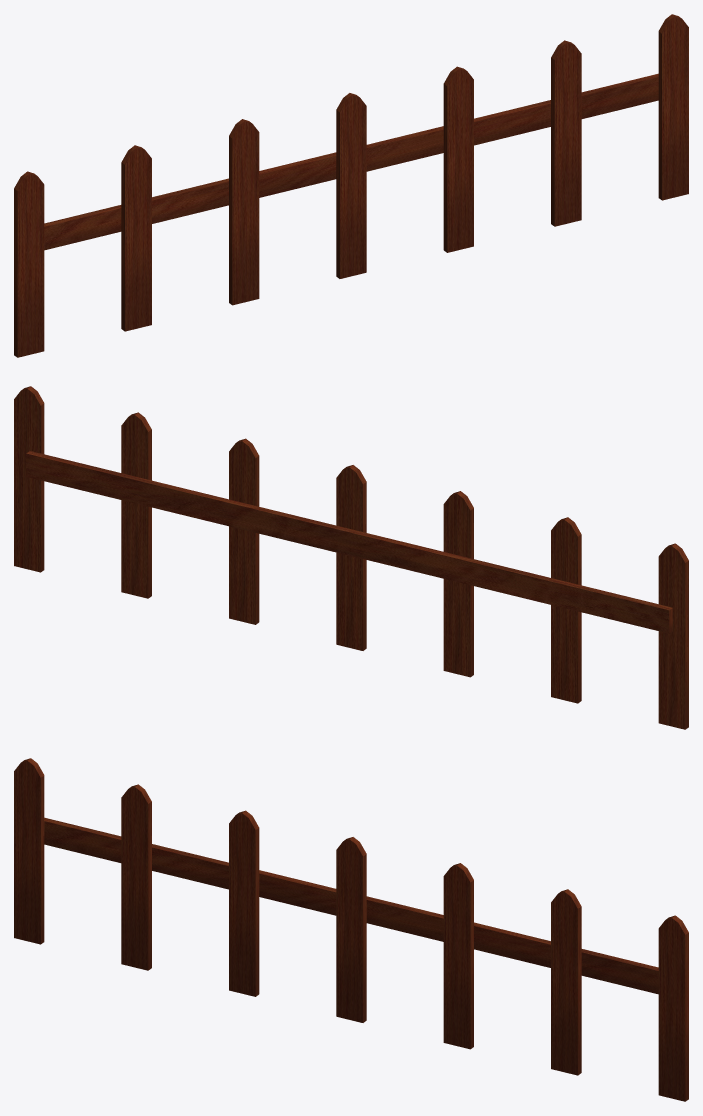
Rendered from fence.fbx.
3 renders of one model, top to bottom at view 1: azimuth 30°, elevation 25°; view 2: azimuth 150°, elevation 25°; view 3: azimuth 330°, elevation 25°, orthographic.
Parts seen in each view (by area): view 1: polySurface1; view 2: polySurface1; view 3: polySurface1.
Part boxes in pixels (<box>): polySurface1: <box>14,14,688,357</box>; polySurface1: <box>14,386,688,729</box>; polySurface1: <box>14,758,688,1101</box>.
Bounding box in the file's own units: 25 × 6.42 × 0.5232.
